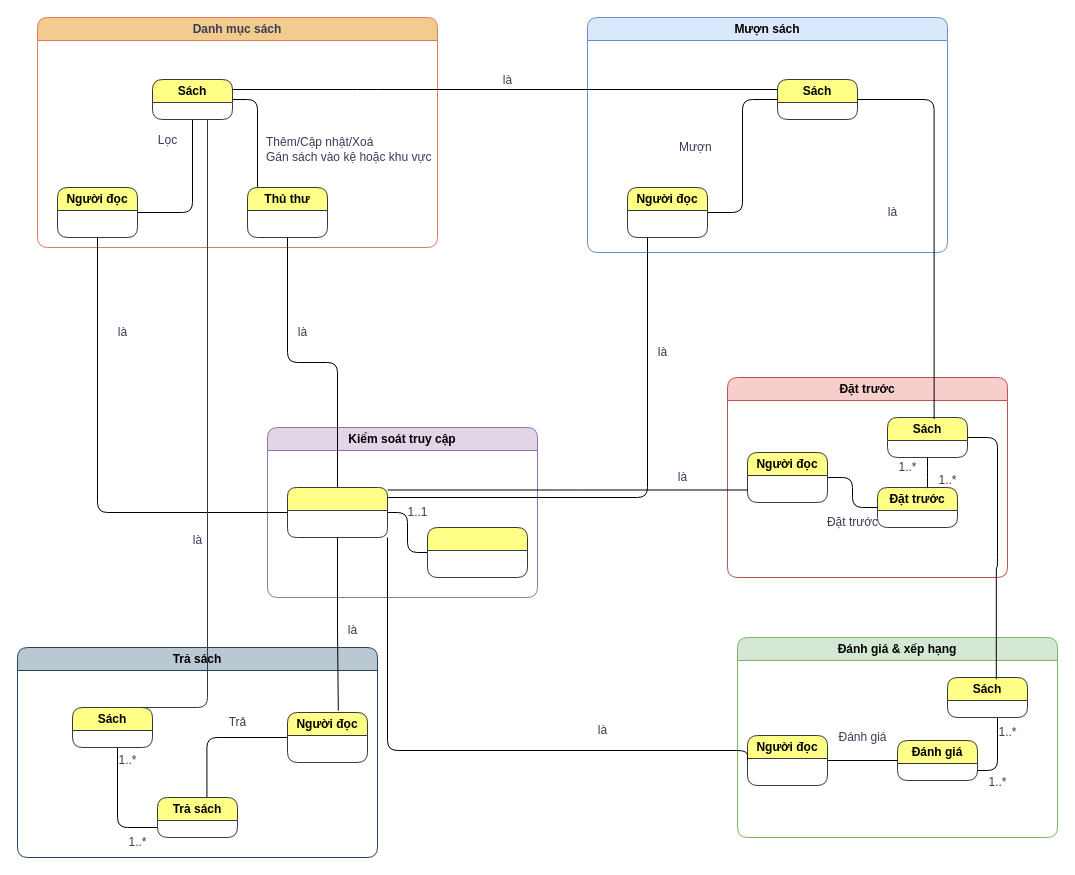
Some shapes in this 1075 by 875 pixel diagram are drawn without their labels. Each missing label, with the centre of its shape:
"Người dùng" belongs at point (337, 512).
"Vai trò" belongs at point (477, 552).
